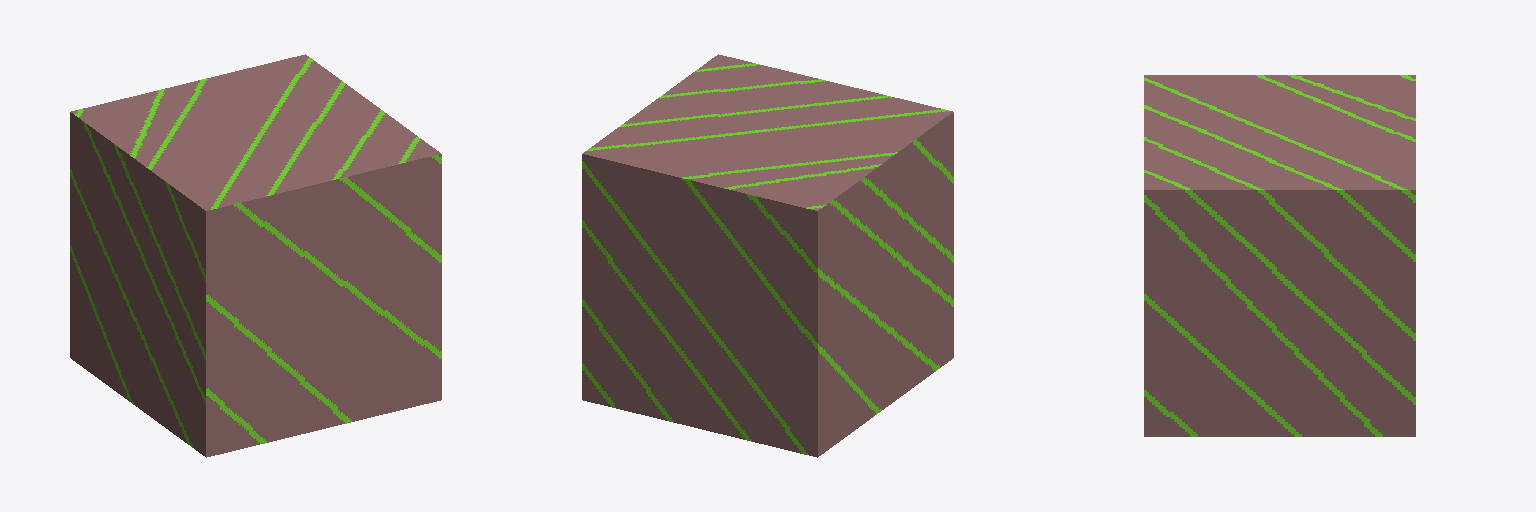
The picture shows the model from 3 angles: view 1: azimuth 30°, elevation 25°; view 2: azimuth 150°, elevation 25°; view 3: azimuth 270°, elevation 25°; orthographic projection.
Parts seen in each view (by area): view 1: Cube; view 2: Cube; view 3: Cube.
Boxes of the visible parts, <box> form: Cube: <box>70,54,441,457</box>; Cube: <box>582,54,953,457</box>; Cube: <box>1144,75,1415,436</box>.
Size of the model in its own units: 2 by 2 by 2.
1 materials, 1 textured.